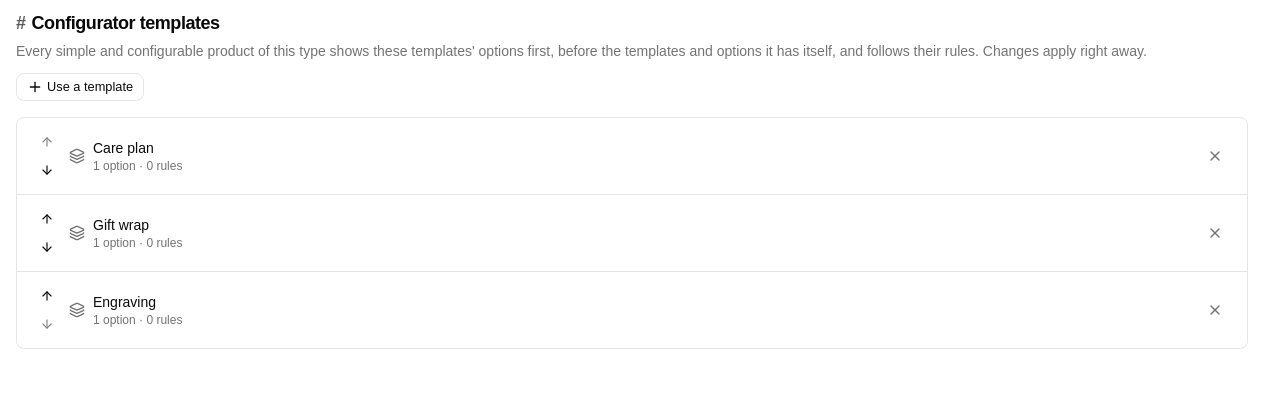
Test: ProductTypeTemplatesSection › shows why the server refused
Click the button named "Show Gift wrap earlier" at (47, 219), box [33, 205, 61, 233]
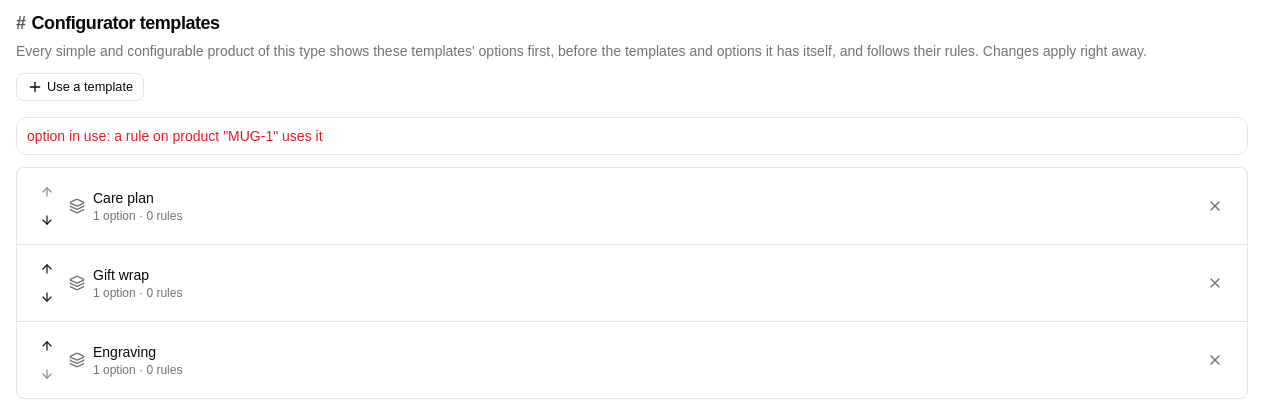
Result: the text "option in use: a rule on product \"MUG-1\" uses it" is shown at [27, 128, 322, 144]
